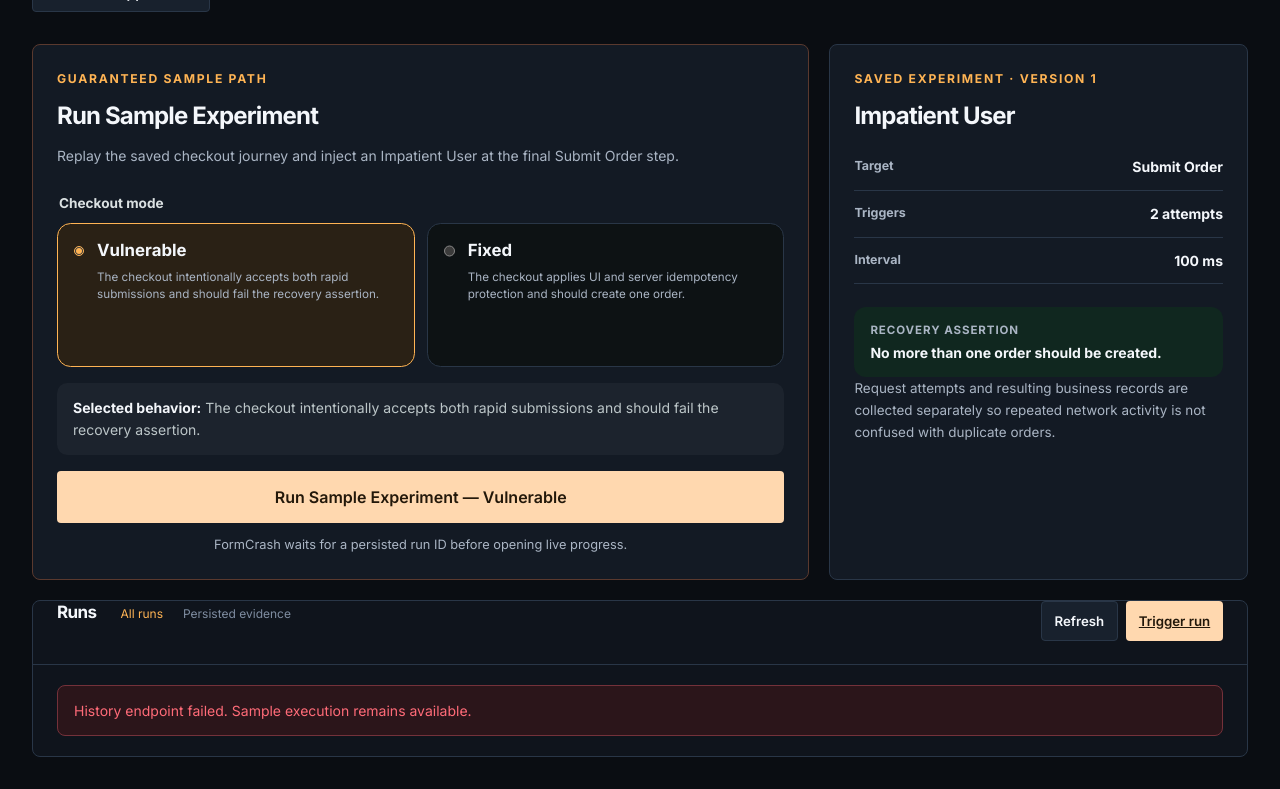
SampleRunDashboard › renders a recoverable history error and keeps sample execution available
(page scrolled)
Expected: the message reads "History endpoint failed. Sample execution remains available.", top-left (57, 685), bottom-right (1223, 736)
Expected: the button "Run Sample Experiment — Vulnerable" is enabled, top-left (57, 471), bottom-right (784, 523)
Click the button "Refresh". click: click(1079, 621)
box: top-left (1041, 601), bottom-right (1118, 641)
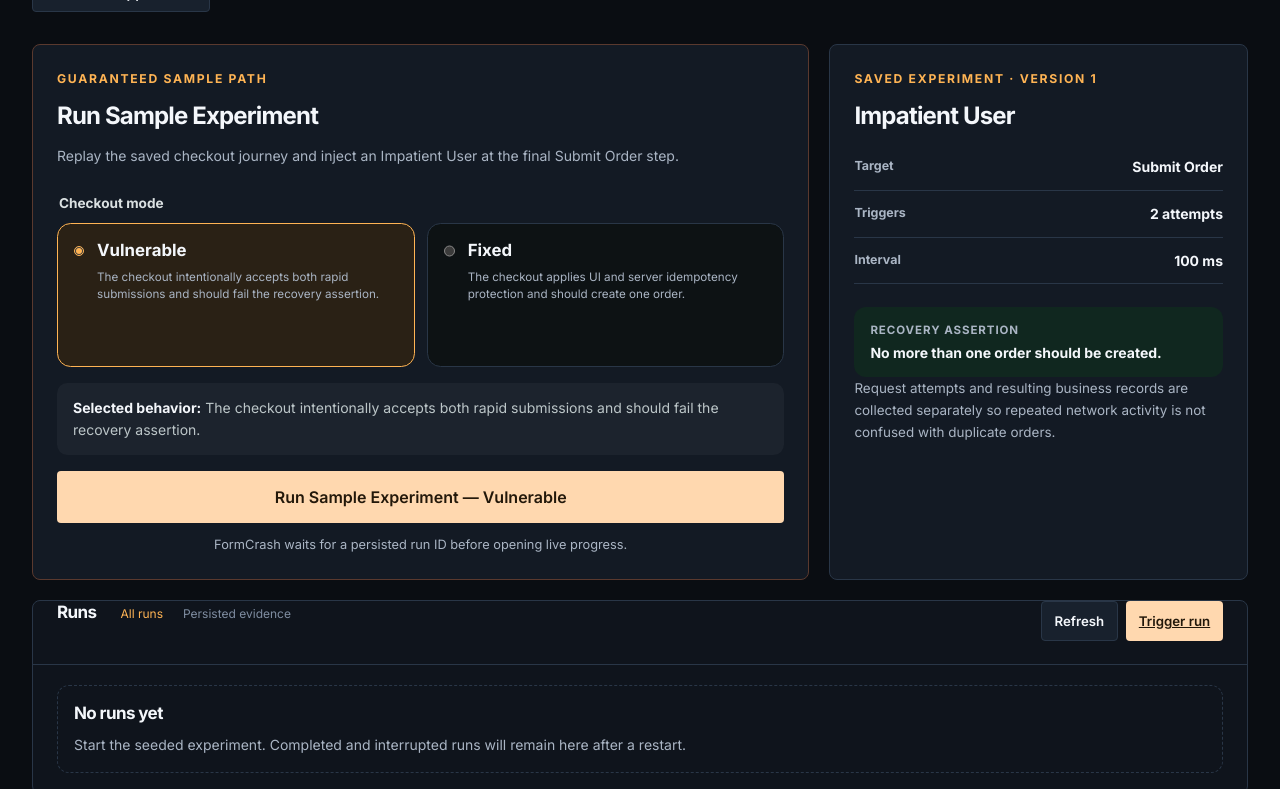
Expected: the heading "No runs yet" is shown, top-left (74, 703), bottom-right (163, 723)
